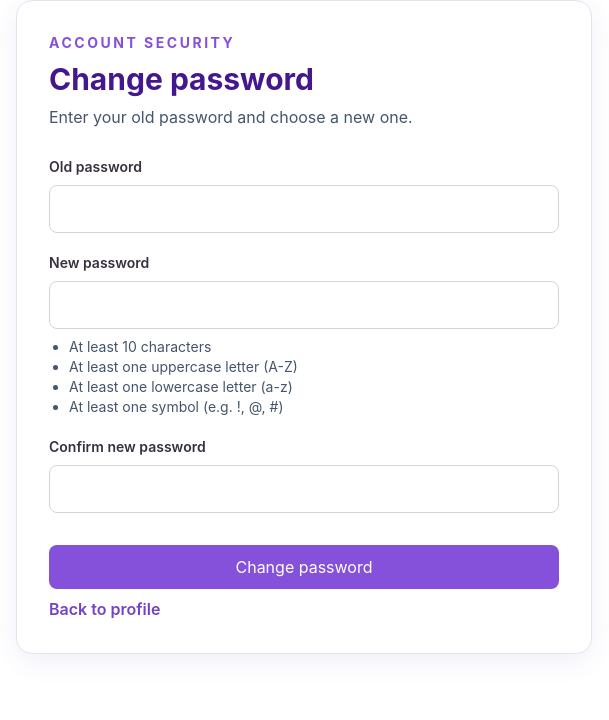
Test: rejects NewPassword!
Type "old" into the password field labelled "Old password" at (304, 209), box left=49, top=185, right=559, bottom=233
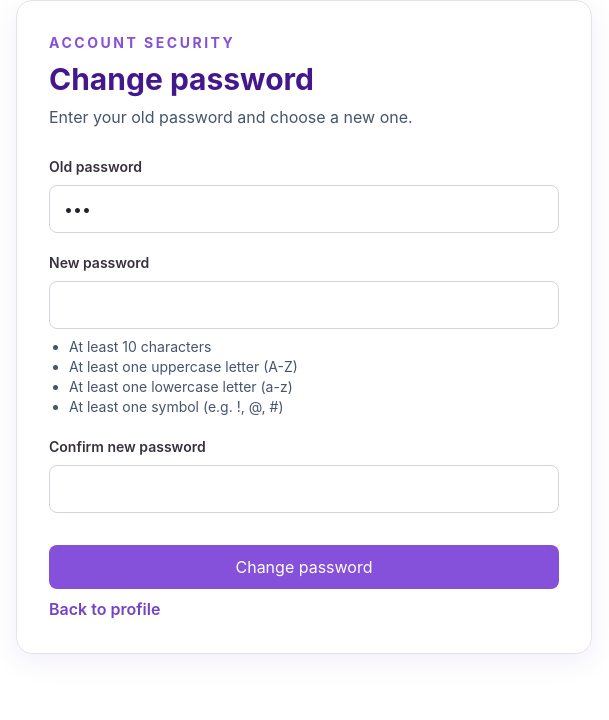
Type "NewPassword!" into the password field labelled "New password" at (304, 305), box left=49, top=281, right=559, bottom=329
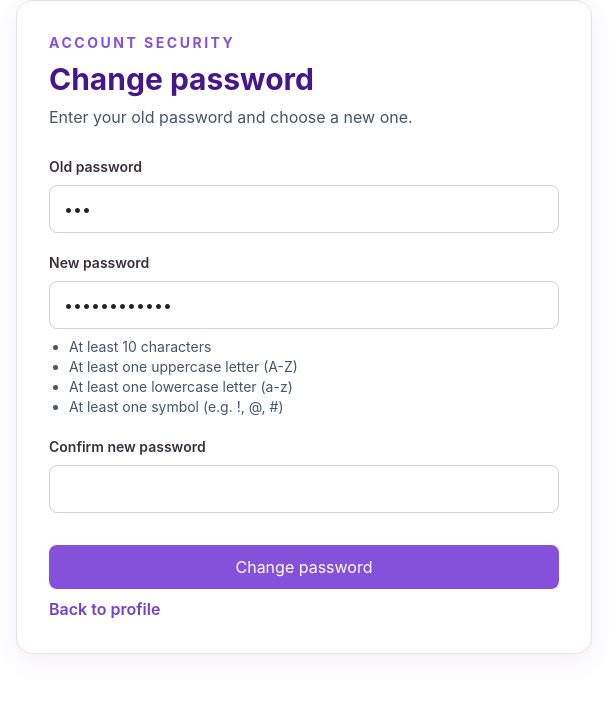
Type "Different!" into the password field labelled "Confirm new password" at (304, 489), box left=49, top=465, right=559, bottom=513
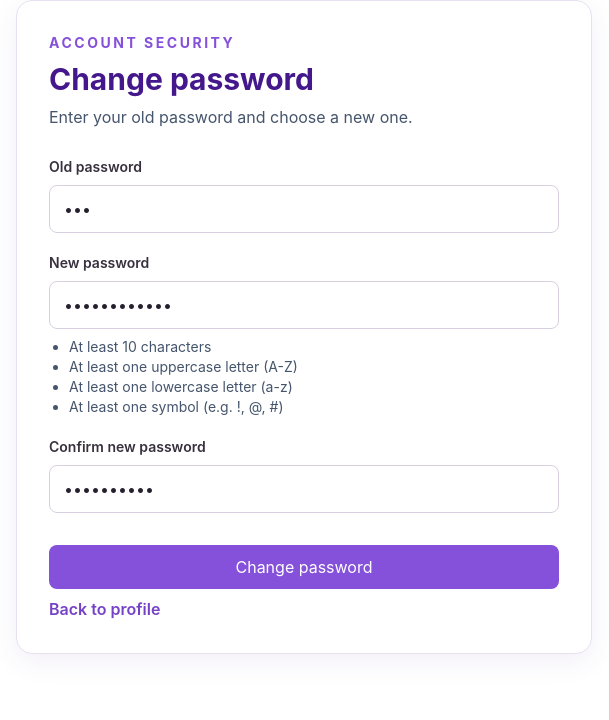
Click the button "Change password" at (304, 567), box left=49, top=545, right=559, bottom=589
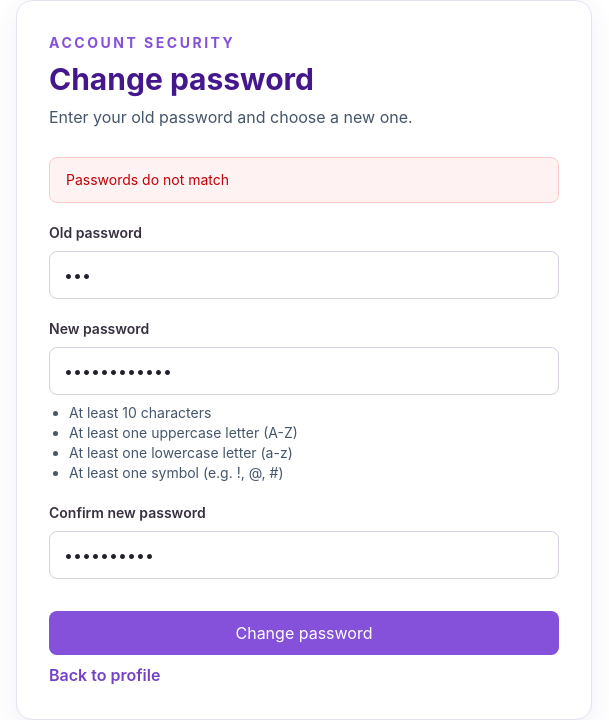
Now the message reads "Passwords do not match", box left=66, top=171, right=229, bottom=188
